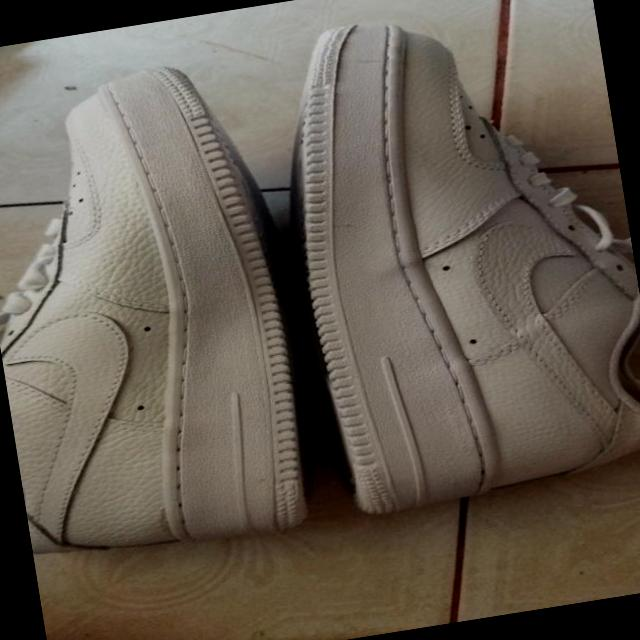nike_fake_airforce: (255, 0, 640, 525), (0, 44, 337, 577)
